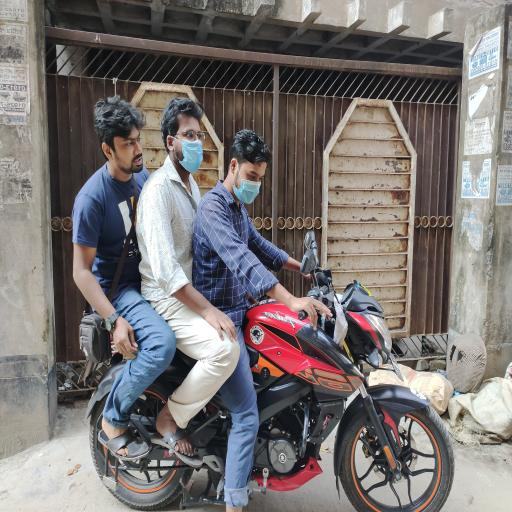overloading: (77, 231, 456, 510)
